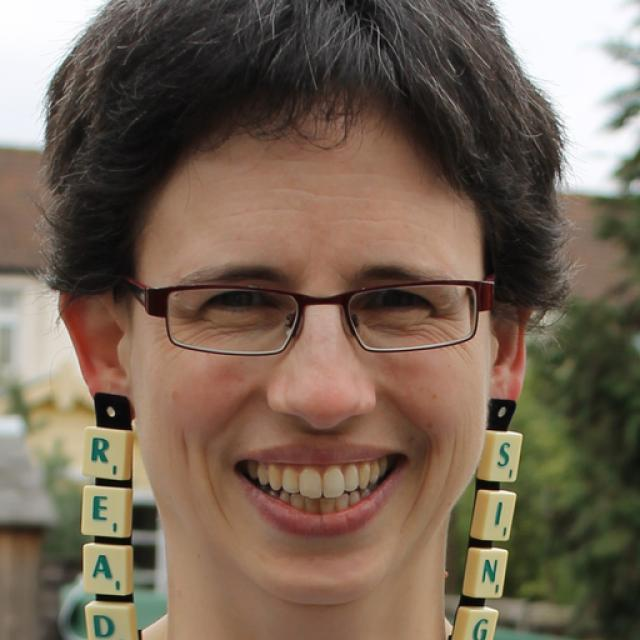Wrinkle: (202, 442, 238, 528), (271, 182, 383, 205), (222, 203, 320, 218), (440, 434, 460, 505), (325, 216, 417, 227)
